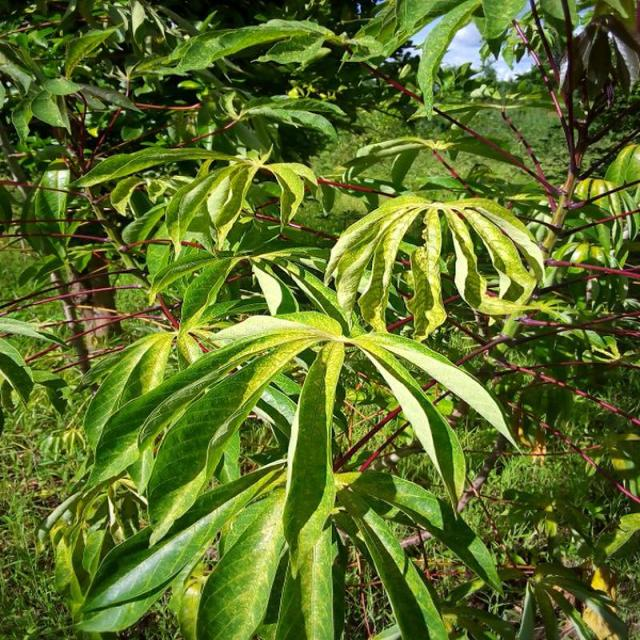cassava leaf: (324, 192, 546, 338)
